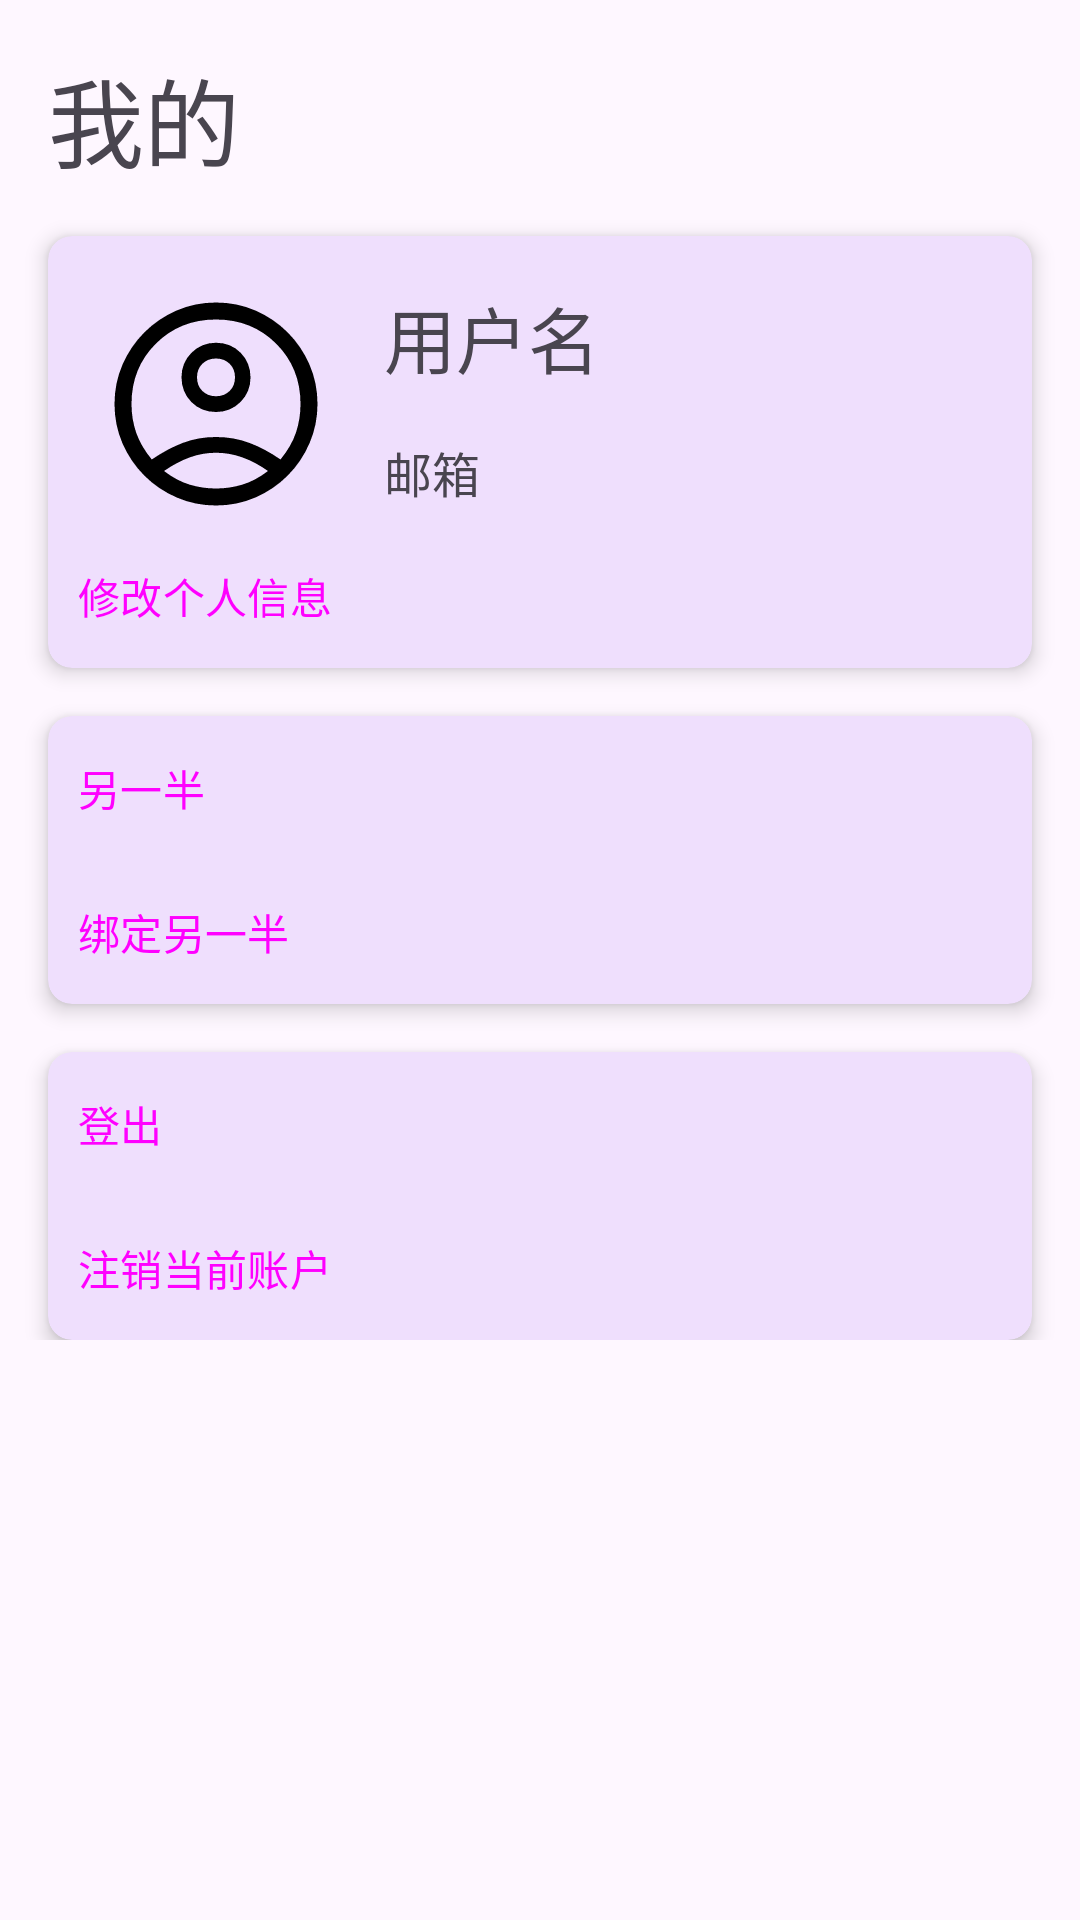

Named icons in this screenshot (1080 x 1920) and their bounding boxes, (x1, y1, x2, y2):
account circle: (114, 302, 318, 506)
